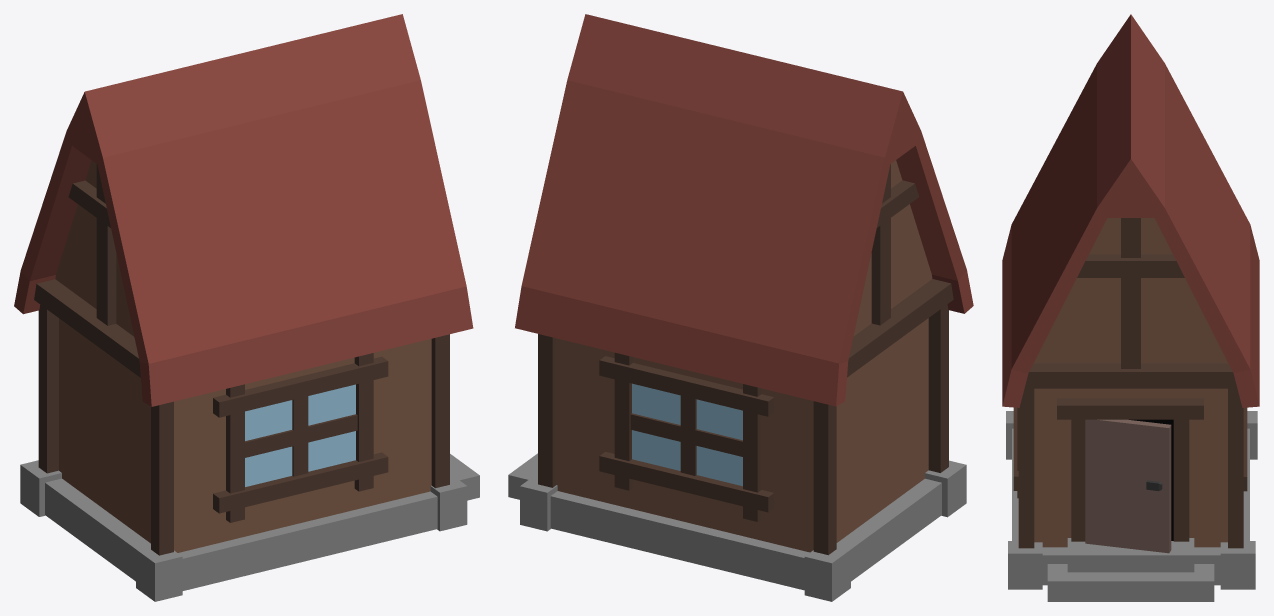
Rendered from house.fbx.
3 renders of one model, left to right at view 1: azimuth 30°, elevation 25°; view 2: azimuth 150°, elevation 25°; view 3: azimuth 270°, elevation 25°, orthographic. The views are drawn at different scales.
Visible parts, largest first — view 1: House; view 2: House; view 3: House.
Part boxes in pixels (x1=…): House: x1=14, y1=14, x2=479, y2=601; House: x1=508, y1=14, x2=973, y2=601; House: x1=1002, y1=14, x2=1259, y2=601.
Bounding box in the file's own units: 863 × 1081 × 584.
